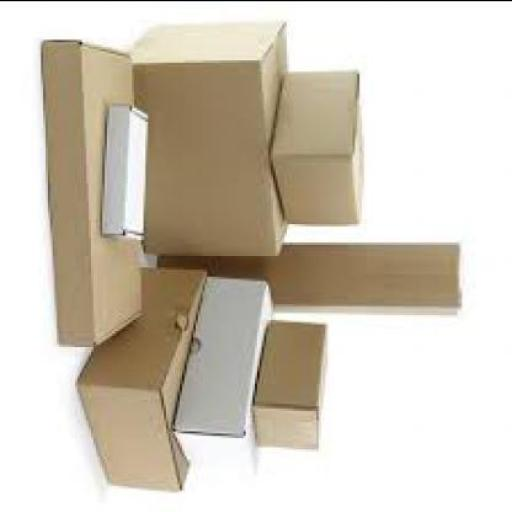cardboard: (121, 16, 293, 250), (45, 36, 143, 344), (77, 271, 207, 487), (160, 239, 464, 311), (176, 273, 278, 469), (271, 68, 367, 224), (256, 316, 334, 448), (103, 100, 152, 237)
